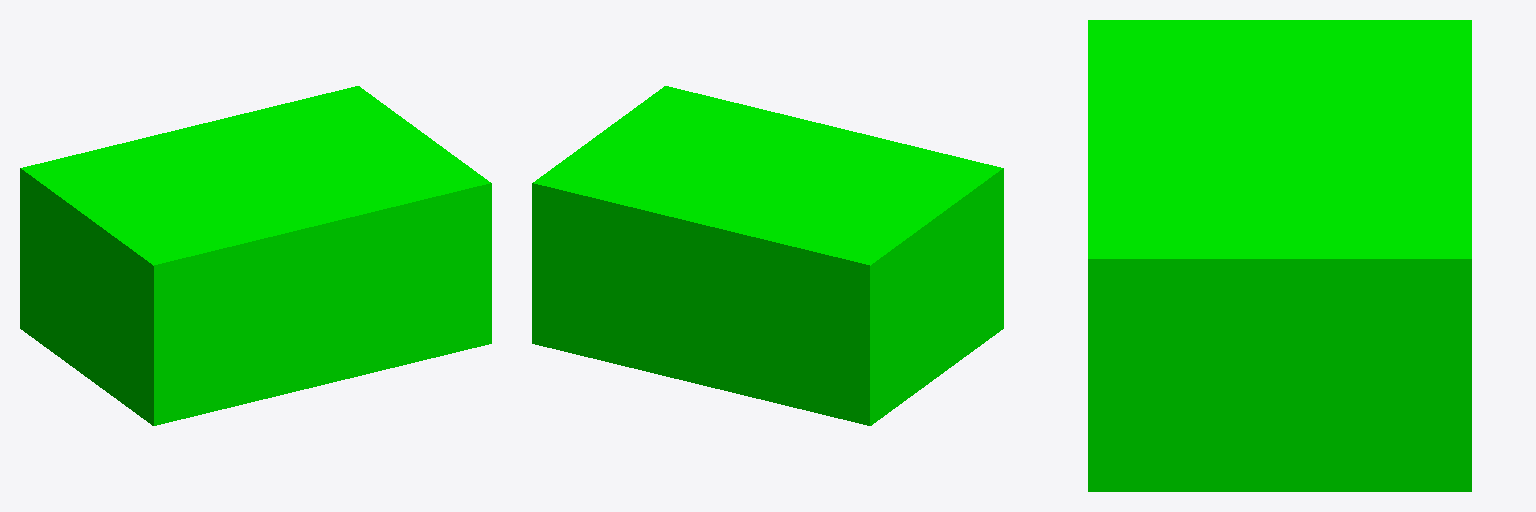
The robot description file, URDF, robot "rover":
<?xml version="1.0"?>
<robot name="rover">
  <!-- colors -->
  <material name="green">
    <color rgba="0.0 1.0 0.0 1.0"/>
  </material>

  <!-- fixxed dimensions -->

  <!-- robot house -->
  <link name="base_link">
    <!-- Visual properties of the link -->
    <visual>
      <geometry>
        <box size="0.22 0.15 0.1" />
      </geometry>
      <origin xyz="0 0 0" rpy="0 0 0"/>
      <material name="green"/>
    </visual>
    <!-- Collision properties of the link -->
  </link>

  <!-- house frame -->
  <!-- <link name="rocker_left">
    <visual>
      <geometry>
        <cylinder radius="0.015" length="0.09"/>
        <origin xyz="-0 0 0" rpy="0 0 90"/>
      </geometry>
    </visual>
  </link> -->

  <!-- referrence -->
  <link name="referrence">
    <visual>
      <origin xyz="0.15 0.05 -0.115" rpy="0 0 3.14"/>
      <geometry>
        <mesh filename="file://[local-path]/Desktop/rover_simulation/src/rover_description/meshes/rover.stl" scale="0.001 0.001 0.001"/>
      </geometry>
      <material name="example_material">
        <color rgba="0.8 0.8 0.8 0.4"/>
      </material>
    </visual>
  </link>
  <!-- needed to visualise referrence -->
  <joint name="referrence" type="fixed">
    <parent link="base_link"/>
    <child link="referrence"/>
    <origin xyz="0 0 0" rpy="0 0 0"/>
  </joint>
  <!-- <joint name="rocker_left" type="fixed">
    <parent link="base_link"/>
    <child link="rocker_left"/>
    <origin xyz="0 0 0" rpy="0 0 0"/>
  </joint> -->

  <!-- Optionally, define joints if this link is connected to others -->
</robot>

--- Render facts (derived) ---
The picture shows the robot from 3 angles, left to right: view 1: azimuth 30°, elevation 25°; view 2: azimuth 150°, elevation 25°; view 3: azimuth 270°, elevation 25°; orthographic projection.
Model rover with 2 links and 1 joints (1 fixed), rooted at base_link, posed every joint at zero.
Links seen in each view (by area): view 1: base_link; view 2: base_link; view 3: base_link.
Boxes of the visible links, x1,y1,x2,y2 form: base_link: [20, 86, 491, 425]; base_link: [532, 86, 1003, 425]; base_link: [1088, 20, 1471, 491].
Size in the robot's own frame: 0.22 by 0.15 by 0.1 metres.
Geometry: only primitive shapes (box / cylinder / sphere) drawn; not drawn: 1 mesh visual (reference in a form the renderer does not follow).